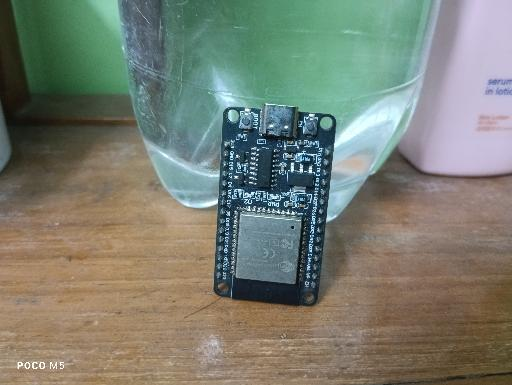Esp32: (214, 103, 336, 307)
